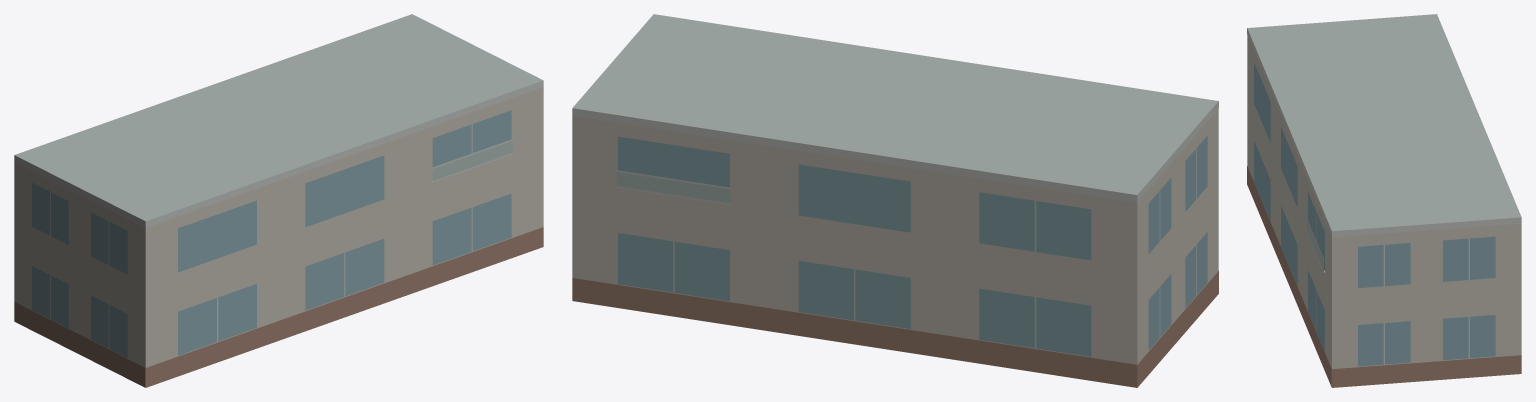
The model's file is survey-upis-32705636.glb.
3 views of the same model, side by side, from view 1: azimuth 30°, elevation 25°; view 2: azimuth 150°, elevation 25°; view 3: azimuth 270°, elevation 25° (orthographic). The views are drawn at different scales.
Parts seen in each view (by area): view 1: survey-upis-32705636.tmp; view 2: survey-upis-32705636.tmp; view 3: survey-upis-32705636.tmp.
Part boxes in pixels (x1,y1,x2,y2): survey-upis-32705636.tmp: (14, 14, 543, 387); survey-upis-32705636.tmp: (572, 14, 1218, 387); survey-upis-32705636.tmp: (1247, 14, 1521, 387).
Size of the model in its own units: 18.17 by 6.1 by 9.7.
